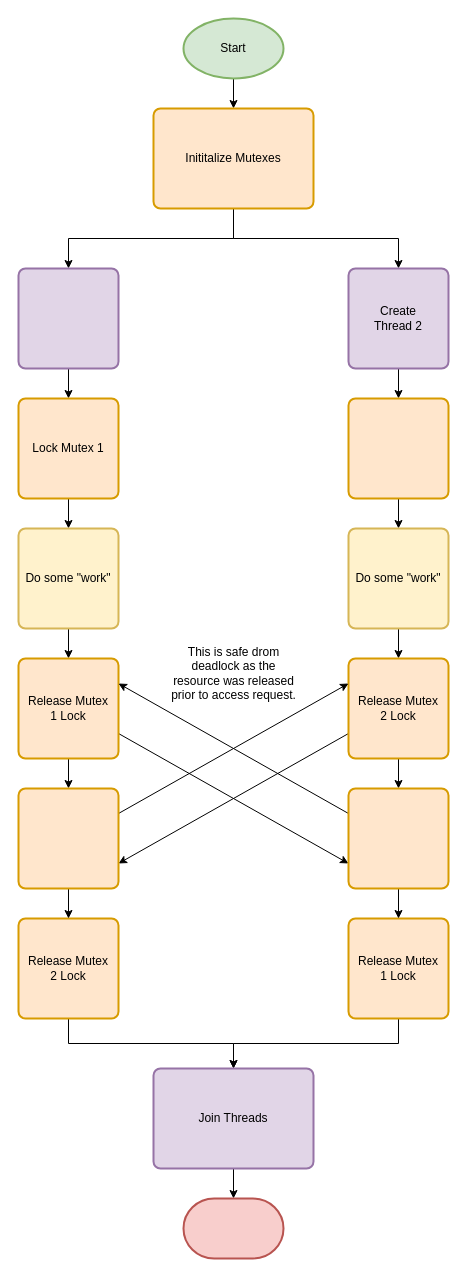
This 466x1276 diagram has some shape labels left out. Each missing label, with the box of its shape:
Attempt to Acquire Mutex 1: (347, 787, 449, 889)
Attempt to Acquire Mutex 2: (17, 787, 119, 889)
Create Thread 1: (17, 267, 119, 369)
Lock Mutex 2: (347, 397, 449, 499)
Terminate: (182, 1197, 284, 1259)
